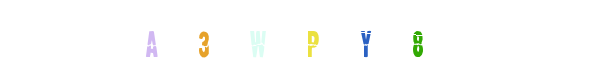3: (164, 0, 244, 80)
8: (377, 0, 457, 80)
A: (157, 0, 237, 80)
P: (265, 0, 345, 80)
W: (262, 0, 342, 80)
Y: (326, 0, 406, 80)
